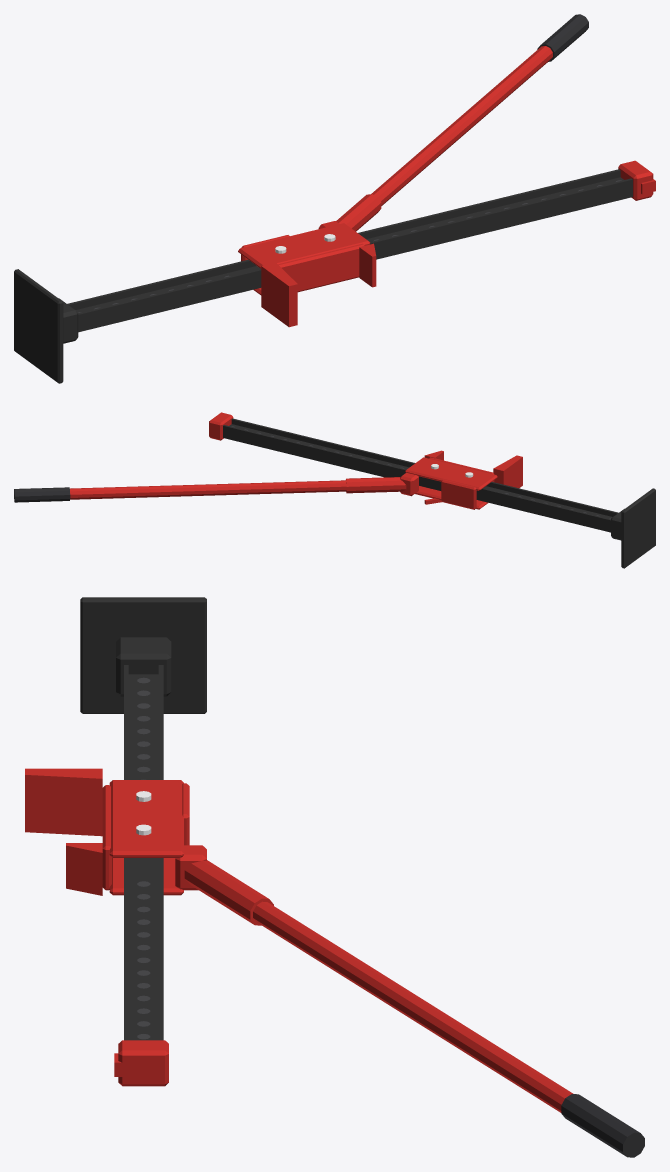
Rendered from item-hi-lift-jack.glb.
3 renders of one model, top to bottom at view 1: azimuth 30°, elevation 25°; view 2: azimuth 150°, elevation 25°; view 3: azimuth 270°, elevation 25°, orthographic. The views are drawn at different scales.
Visible parts, largest first — view 1: hiLiftJack; view 2: hiLiftJack; view 3: hiLiftJack.
Boxes of the visible parts, x1,y1,x2,y2 form: hiLiftJack: (14, 14, 655, 383); hiLiftJack: (14, 412, 655, 568); hiLiftJack: (25, 597, 644, 1157).
Bounding box in the file's own units: 1.48 × 0.16 × 0.783.
